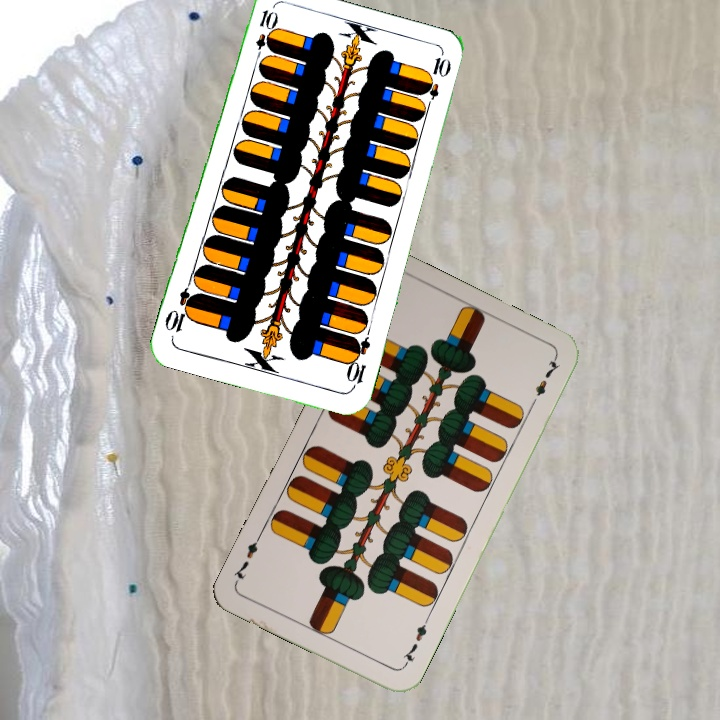E10: (342, 333, 373, 392), (251, 6, 278, 65)
E7: (398, 614, 431, 670)
